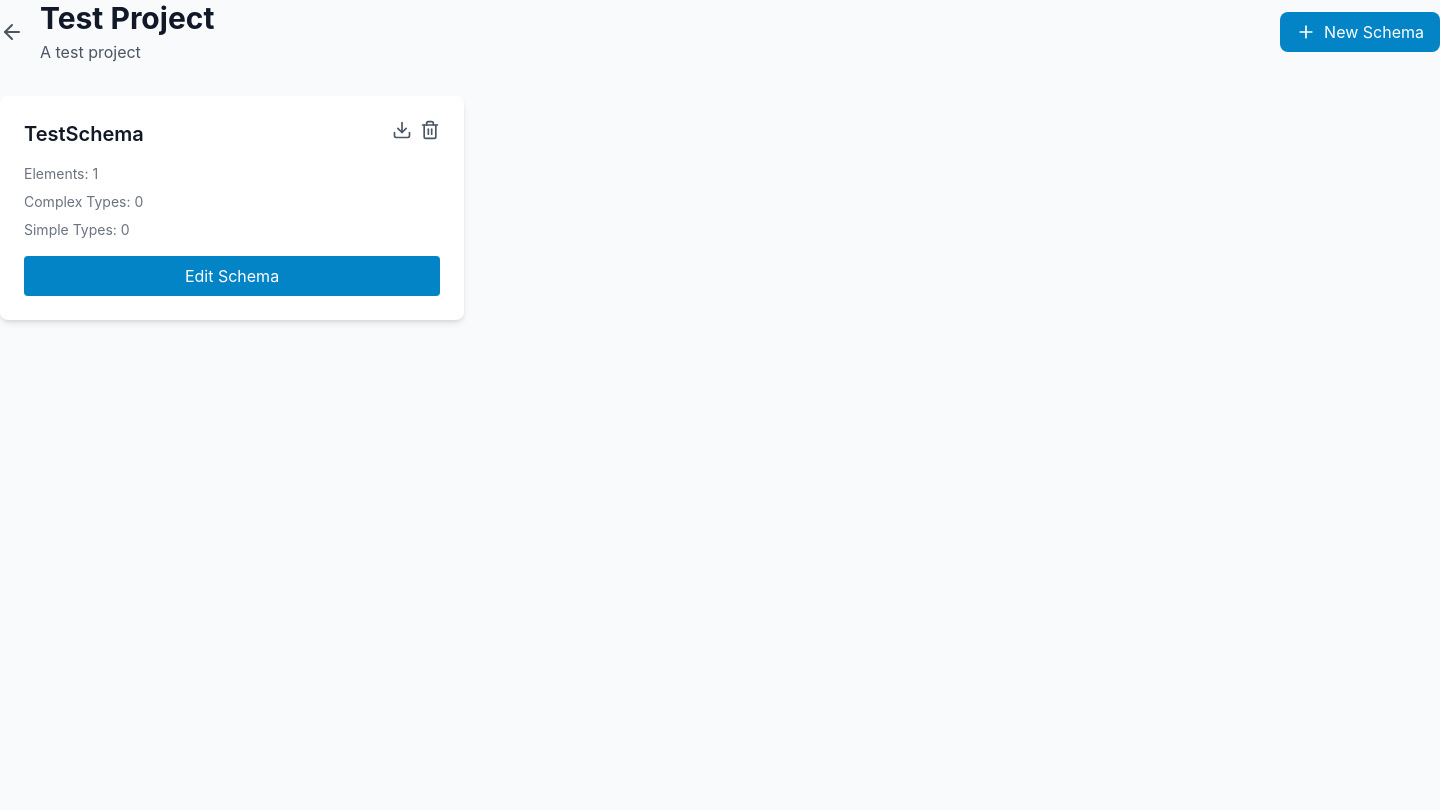
Scenario: ProjectPage › cancels create schema modal
Click the button "New Schema" at (1360, 32), box [1280, 12, 1439, 52]
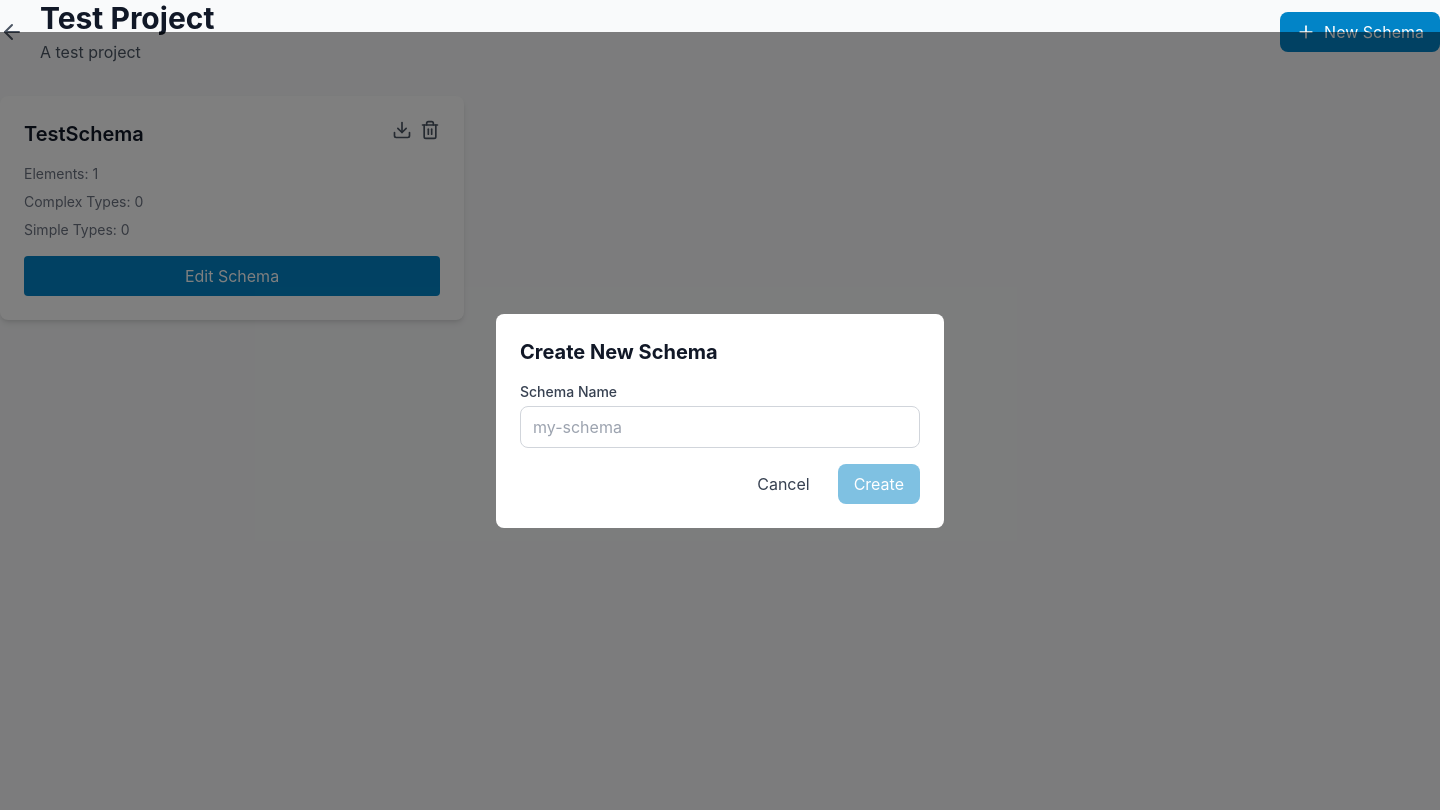
Result: the heading "Create New Schema" is shown at [520, 340, 718, 364]
Click the button "Cancel" at (783, 484), box [741, 464, 826, 504]
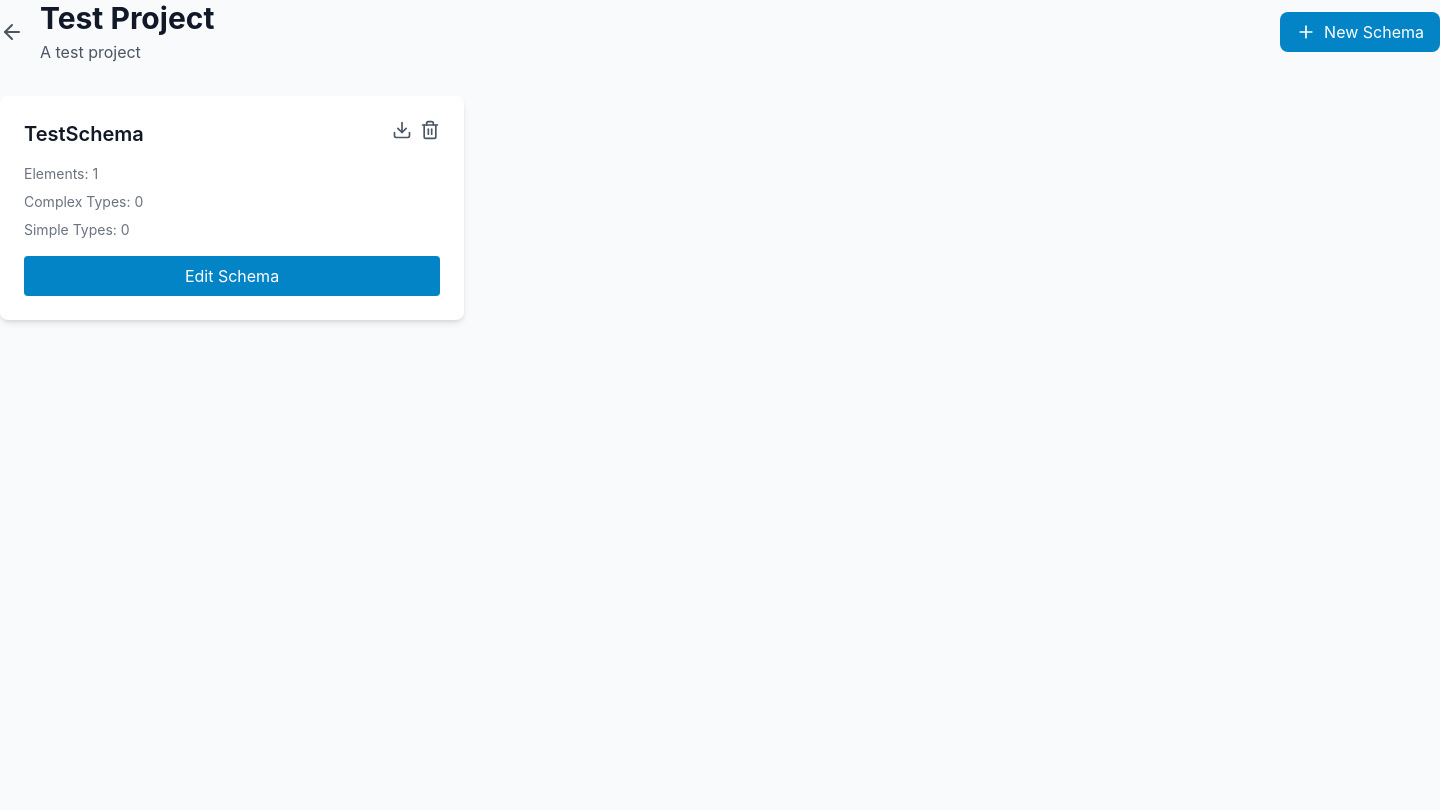
Result: the heading "Create New Schema" is gone
